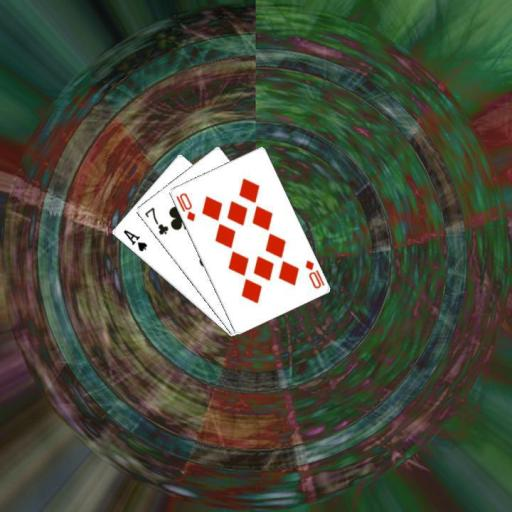10D: (302, 257, 326, 290), (173, 189, 196, 223)
7C: (141, 204, 170, 237)
AS: (120, 226, 149, 253)
